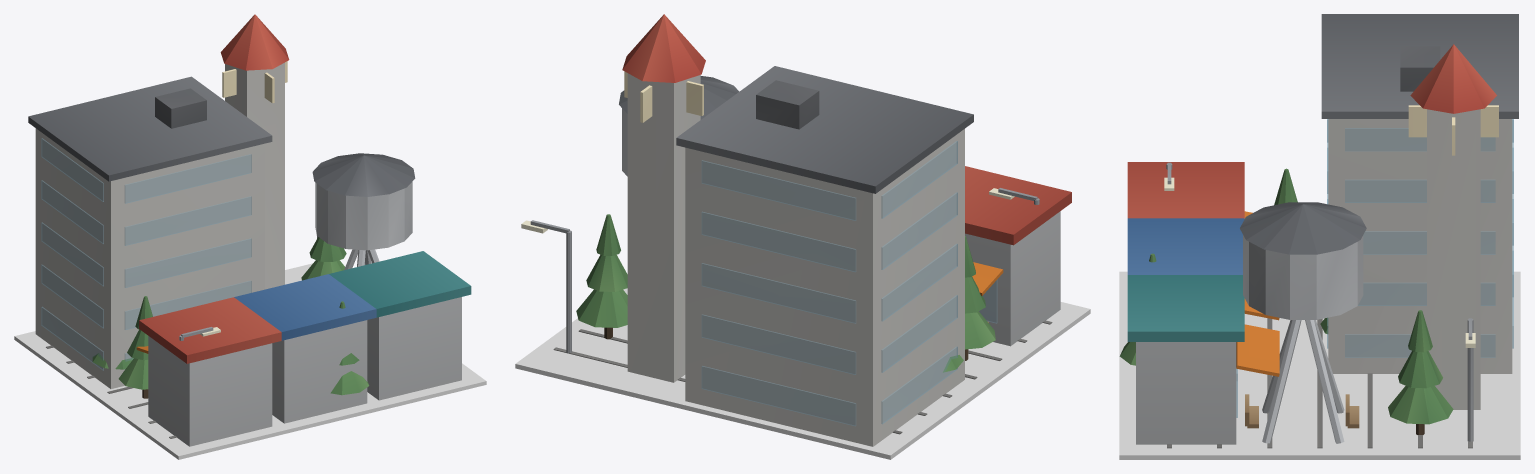
Rendered from Civic_P3.fbx.
3 renders of one model, left to right at view 1: azimuth 30°, elevation 25°; view 2: azimuth 150°, elevation 25°; view 3: azimuth 270°, elevation 25°, orthographic. The views are drawn at different scales.
Parts seen in each view (by area): view 1: Civic.Hall, Civic.Shop0, Civic.Shop2, Civic.Shop1, Civic.WaterTower, Civic.Tower, Civic.Plaza, Civic.Tree1, Civic.Tree2, Civic.Tree3; view 2: Civic.Hall, Civic.Tower, Civic.Plaza, Civic.Shop0, Civic.Tree2, Civic.Tree1, Civic.WaterTower, Civic.Lamp1, Civic.Paving; view 3: Civic.Hall, Civic.Plaza, Civic.Shop2, Civic.Tower, Civic.WaterTower, Civic.Shop1, Civic.Shop0, Civic.Tree2, Civic.Paving, Civic.Lamp1, Civic.Benches, Civic.Tree1.
Boxes of the visible parts, <box> form: Civic.Hall: <box>28,76,272,388</box>; Civic.Shop0: <box>136,297,281,446</box>; Civic.Shop2: <box>329,251,471,400</box>; Civic.Shop1: <box>234,274,376,423</box>; Civic.WaterTower: <box>312,153,415,270</box>; Civic.Tower: <box>220,14,289,289</box>; Civic.Plaza: <box>14,263,486,459</box>; Civic.Tree1: <box>118,296,152,398</box>; Civic.Tree2: <box>301,237,346,280</box>; Civic.Tree3: <box>330,301,369,395</box>; Civic.Hall: <box>676,66,973,446</box>; Civic.Tower: <box>622,14,705,382</box>; Civic.Plaza: <box>515,288,1090,459</box>; Civic.Shop0: <box>965,166,1071,346</box>; Civic.Tree2: <box>576,214,627,339</box>; Civic.Tree1: <box>965,236,995,360</box>; Civic.WaterTower: <box>619,76,739,176</box>; Civic.Lamp1: <box>521,220,571,353</box>; Civic.Paving: <box>553,320,1052,434</box>; Civic.Hall: <box>1321,14,1518,373</box>; Civic.Plaza: <box>1119,271,1520,459</box>; Civic.Shop2: <box>1127,275,1279,444</box>; Civic.Tower: <box>1408,44,1498,409</box>; Civic.WaterTower: <box>1240,202,1366,443</box>; Civic.Shop1: <box>1127,218,1279,320</box>; Civic.Shop0: <box>1127,162,1252,218</box>; Civic.Tree2: <box>1388,310,1453,434</box>; Civic.Paving: <box>1167,318,1472,448</box>; Civic.Lamp1: <box>1465,318,1475,441</box>; Civic.Benches: <box>1245,394,1359,428</box>; Civic.Tree1: <box>1274,168,1297,205</box>.
Size of the model in its own units: 2714 by 2371 by 2400.
